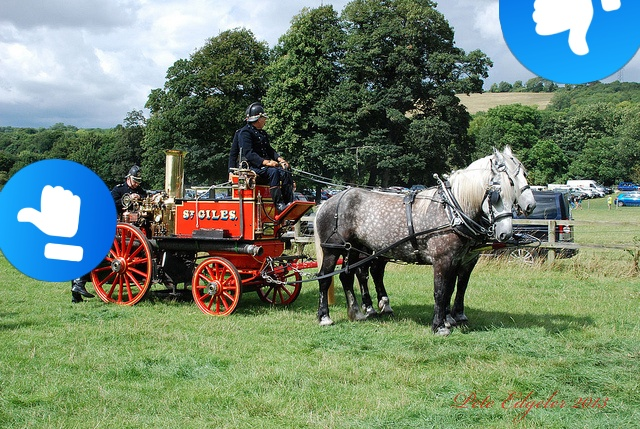like: (0, 159, 117, 282), (499, 0, 640, 84)
